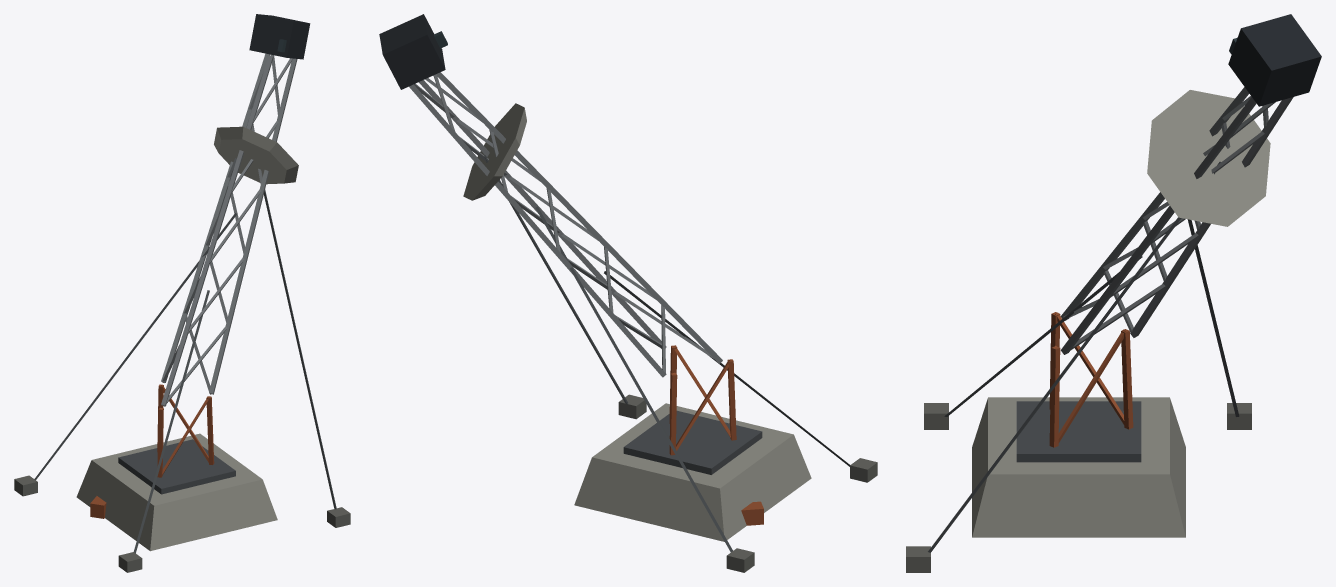
File: relay_shed_antenna.glb
3 renders of one model, left to right at view 1: azimuth 30°, elevation 25°; view 2: azimuth 150°, elevation 25°; view 3: azimuth 270°, elevation 25°, orthographic. The views are drawn at different scales.
Parts seen in each view (by area): view 1: relay_shed_antenna_mesh; view 2: relay_shed_antenna_mesh; view 3: relay_shed_antenna_mesh.
Boxes of the visible parts, x1,y1,x2,y2 form: relay_shed_antenna_mesh: (14, 14, 350, 572); relay_shed_antenna_mesh: (379, 14, 877, 572); relay_shed_antenna_mesh: (906, 14, 1321, 572).
Bounding box in the file's own units: 2.85 × 3.63 × 2.33.
